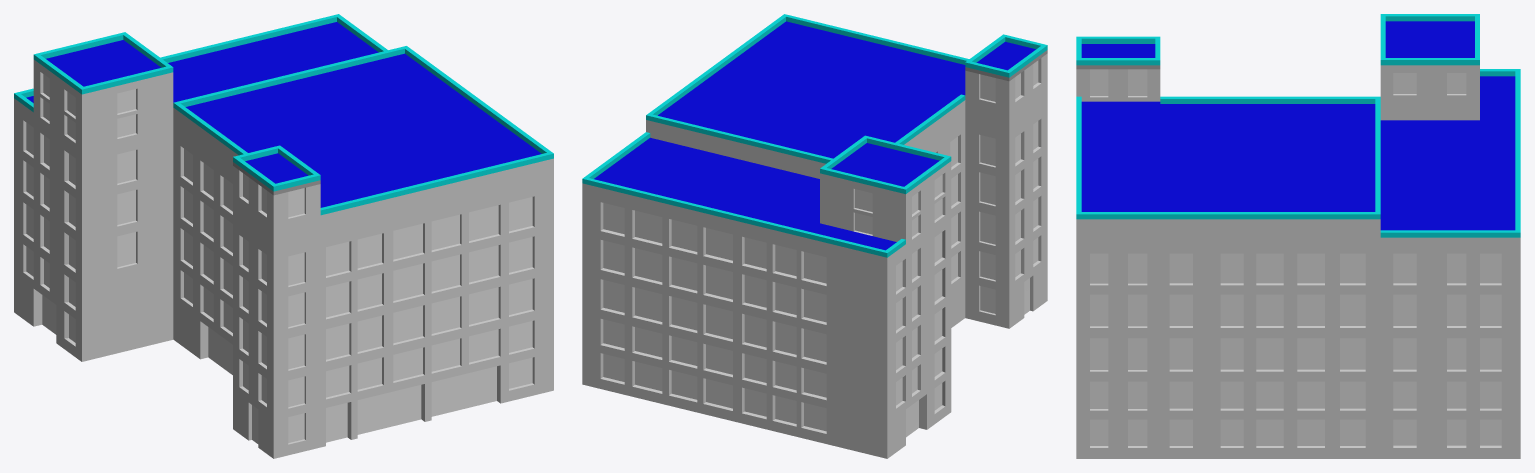
Rendered from JianZhu03.fbx.
3 views of the same model, side by side, from view 1: azimuth 30°, elevation 25°; view 2: azimuth 150°, elevation 25°; view 3: azimuth 270°, elevation 25° (orthographic). The views are drawn at different scales.
Visible parts, largest first — view 1: polySurface1906, polySurface1961, polySurface1968, polySurface1956, polySurface1967; view 2: polySurface1906, polySurface1961, polySurface1968, polySurface1956; view 3: polySurface1906, polySurface1961, polySurface1968, polySurface1956.
Boxes of the visible parts, x1,y1,x2,y2 form: polySurface1906: (14, 59, 553, 458); polySurface1961: (26, 22, 541, 207); polySurface1968: (26, 74, 532, 443); polySurface1956: (14, 14, 553, 215); polySurface1967: (208, 327, 232, 374); polySurface1906: (582, 53, 1047, 458); polySurface1961: (594, 21, 1035, 250); polySurface1968: (603, 60, 1038, 431); polySurface1956: (582, 14, 1047, 257); polySurface1906: (1076, 65, 1520, 458); polySurface1961: (1081, 21, 1515, 230); polySurface1968: (1090, 69, 1501, 445); polySurface1956: (1076, 14, 1520, 237).
Bounding box in the file's own units: 148 × 118 × 169.
